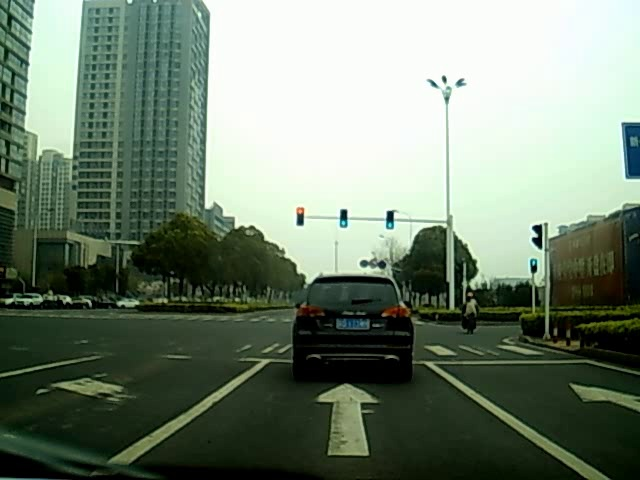Traffic_Light_go: (385, 211, 393, 229), (340, 211, 347, 228)
Traffic_Light_stop: (298, 207, 304, 226)
